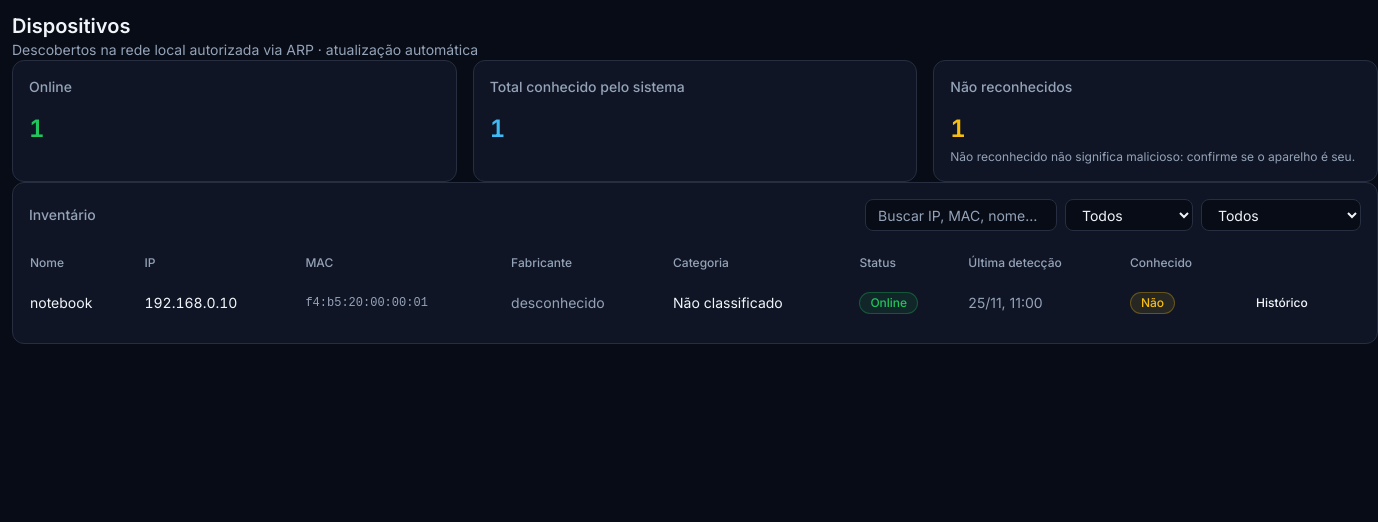
Test: Devices › expande o histórico
This screenshot has width=1378, height=522.
Click the button "Histórico": (1282, 303) [1244, 287, 1320, 319]
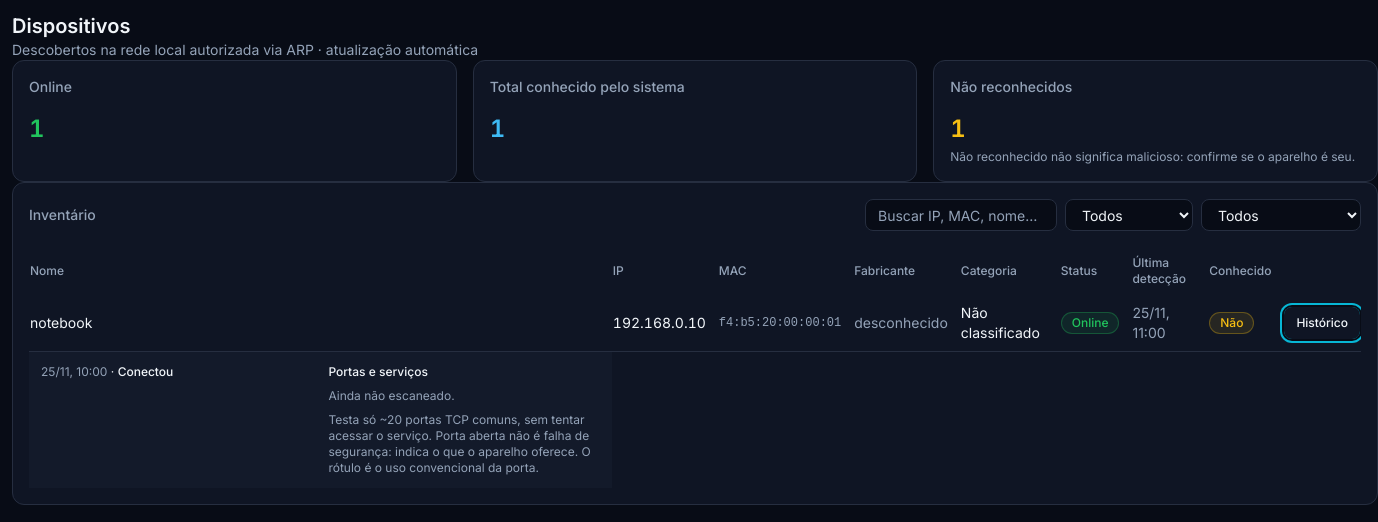
Now the text "Conectou" is shown, box [118, 364, 173, 379]
